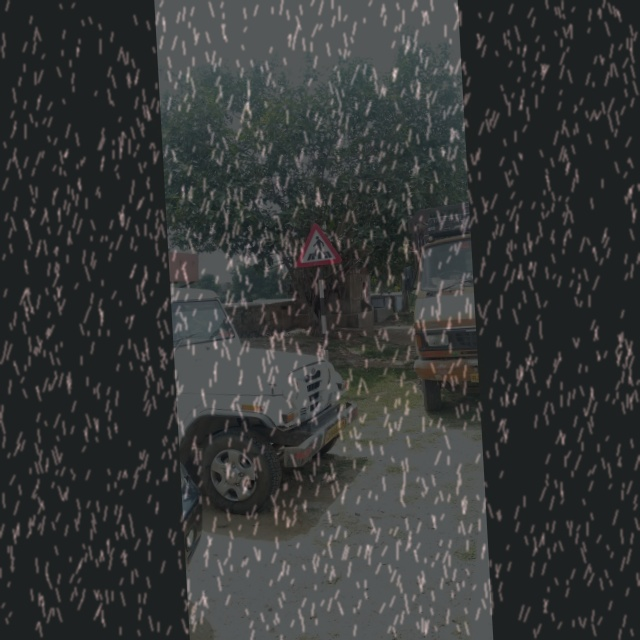Pedestrian_Crossing: (287, 212, 354, 272)
